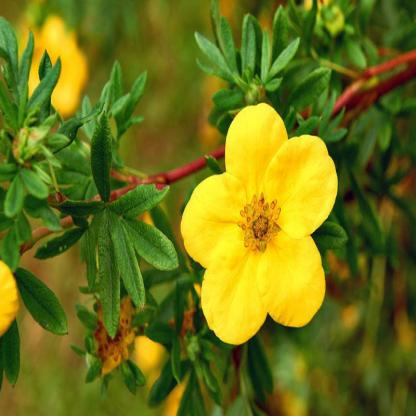other: (173, 105, 326, 336), (0, 262, 18, 351)
